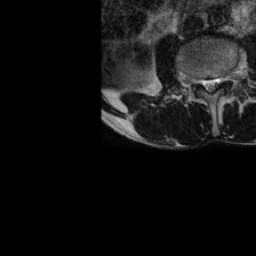CCS_stenosis: (207, 73, 212, 98)
LFS_normal: (220, 68, 227, 86)
LLS_normal: (212, 73, 219, 90)
RFS_stenosis: (194, 72, 201, 89)
RLS_normal: (201, 73, 207, 94)
